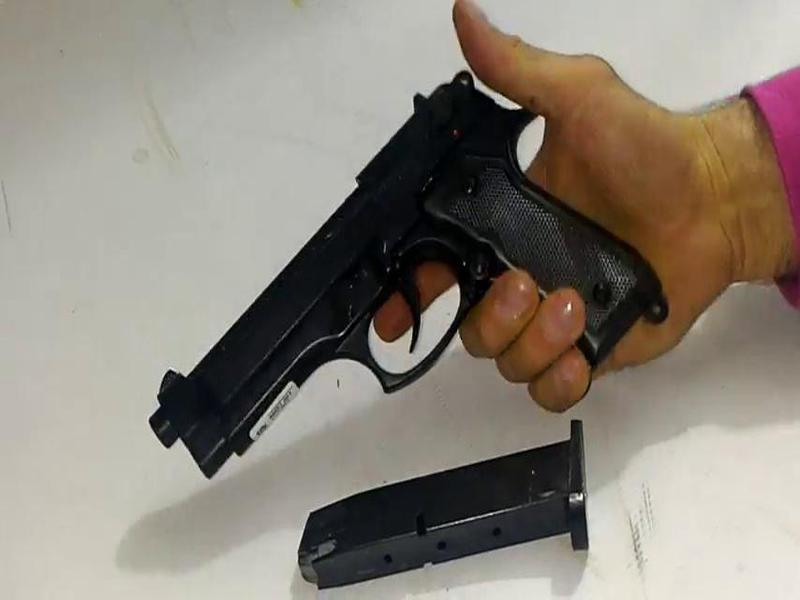Pistola: (127, 64, 690, 444)
